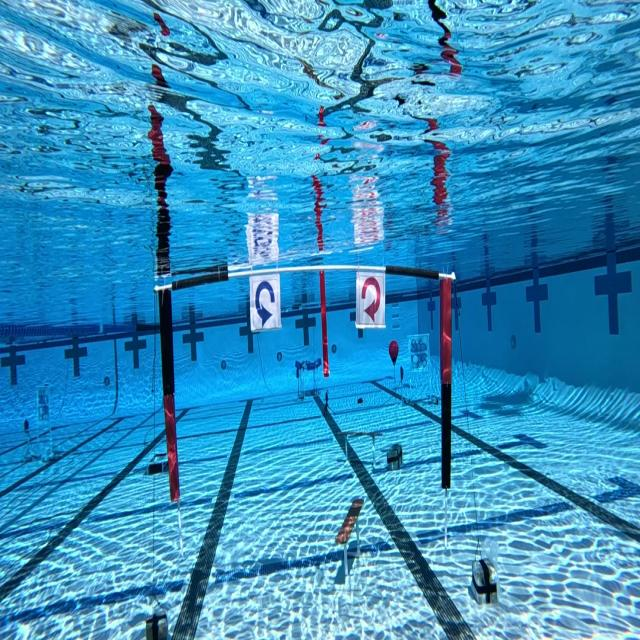blue_side: (245, 266, 284, 342)
red_side: (349, 261, 392, 333)
